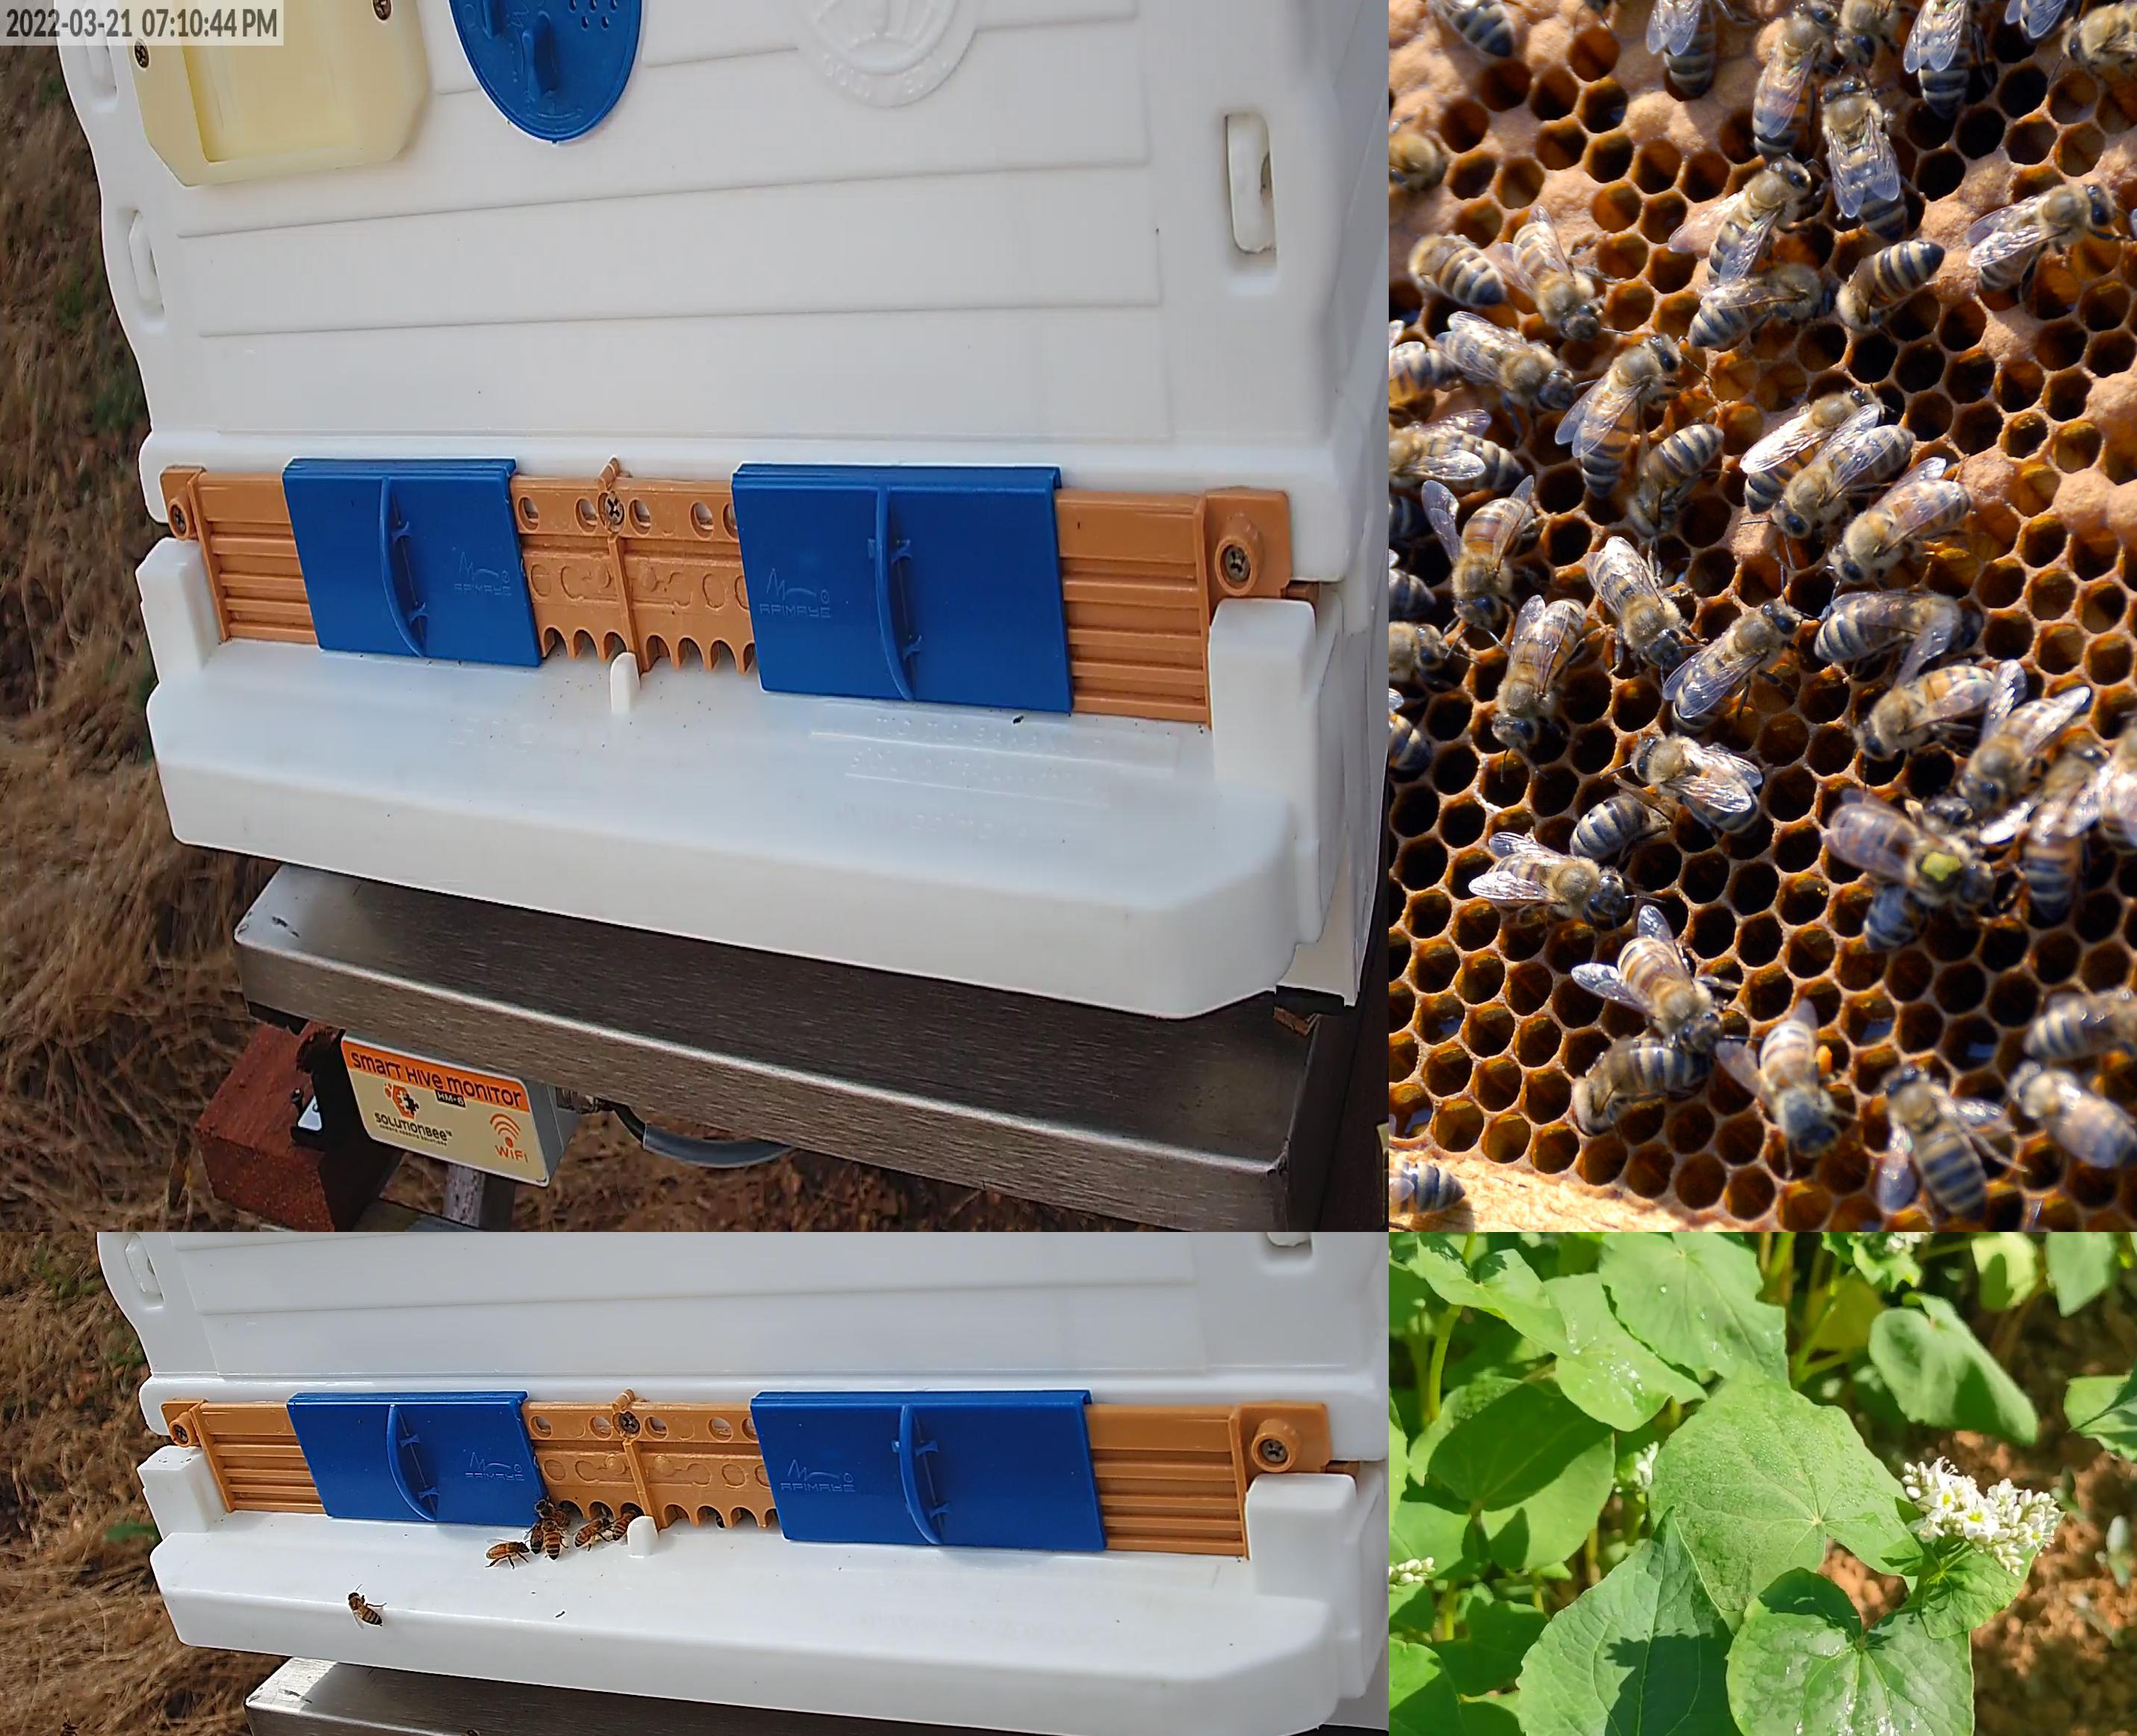bee: (1744, 393, 1884, 515), (1581, 335, 1680, 498), (1675, 604, 1795, 733), (1979, 182, 2112, 291), (1889, 1070, 1986, 1217), (1779, 427, 1916, 531), (1866, 804, 1958, 951), (1857, 666, 2002, 758), (2025, 742, 2100, 919), (1822, 78, 1903, 239), (1497, 599, 1588, 744), (1836, 482, 1970, 577), (2013, 1066, 2137, 1167), (1752, 0, 1830, 159), (1636, 739, 1756, 840), (1708, 163, 1807, 283), (1687, 267, 1830, 349), (1449, 322, 1577, 411), (1962, 698, 2068, 802), (1579, 1042, 1712, 1125), (1618, 939, 1717, 1049), (1595, 546, 1680, 666), (1513, 221, 1595, 344), (1634, 423, 1726, 530), (1485, 852, 1628, 919), (1457, 500, 1535, 622), (1836, 239, 1944, 322), (1815, 597, 1962, 657), (1389, 425, 1524, 491), (1919, 0, 1990, 119), (2024, 994, 2137, 1059), (1389, 347, 1460, 446), (1410, 232, 1503, 305), (1570, 794, 1666, 861), (1834, 0, 1930, 67), (1662, 0, 1726, 92), (1419, 0, 1515, 57), (1389, 1160, 1464, 1231), (2102, 710, 2137, 857), (2064, 0, 2137, 62), (2022, 0, 2109, 43), (1389, 686, 1430, 771), (1389, 624, 1448, 675), (1389, 129, 1444, 182), (1389, 492, 1426, 569), (1389, 567, 1434, 629), (533, 1499, 569, 1525), (349, 1593, 379, 1623), (542, 1520, 562, 1561), (486, 1543, 528, 1561), (613, 1511, 638, 1539), (528, 1522, 542, 1554), (53, 1722, 80, 1736)
pollenbee: (1760, 1022, 1836, 1155), (574, 1516, 610, 1548)
queen: (1830, 804, 1995, 912)
